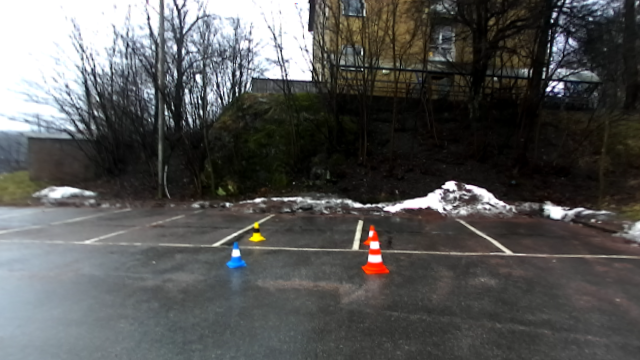blue: (226, 240, 249, 270)
orange: (362, 225, 381, 245)
orange2: (360, 232, 389, 277)
yellow: (247, 220, 267, 245)
